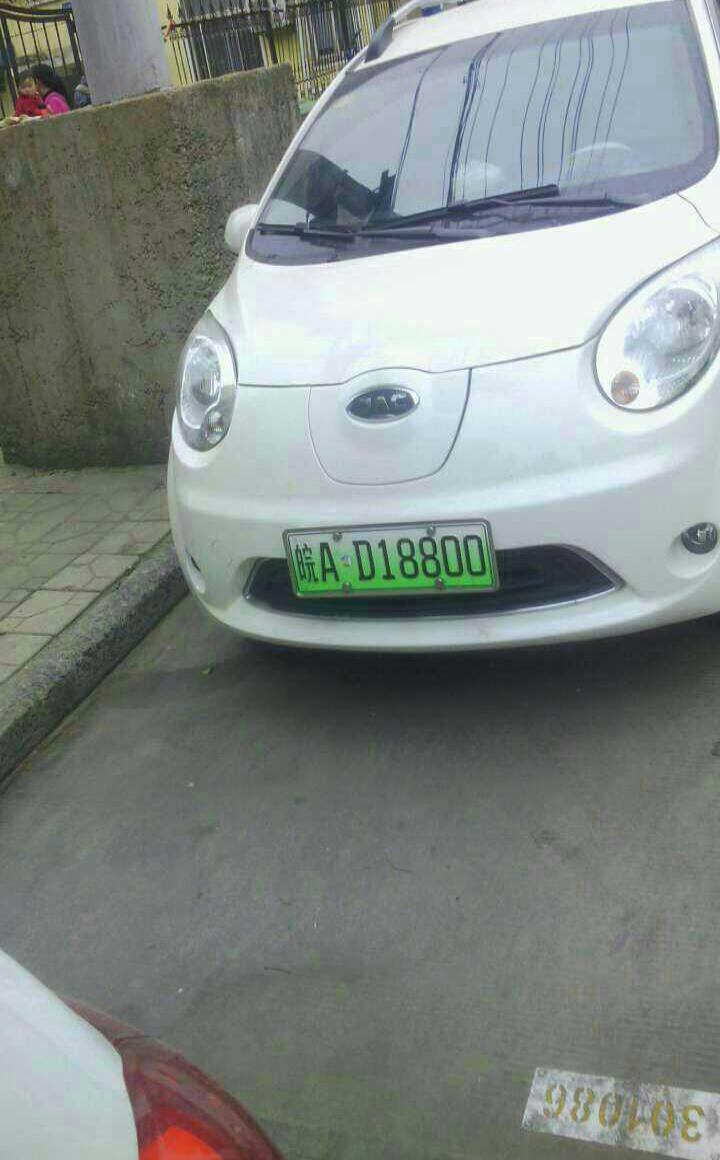car_id: (282, 520, 495, 593)
